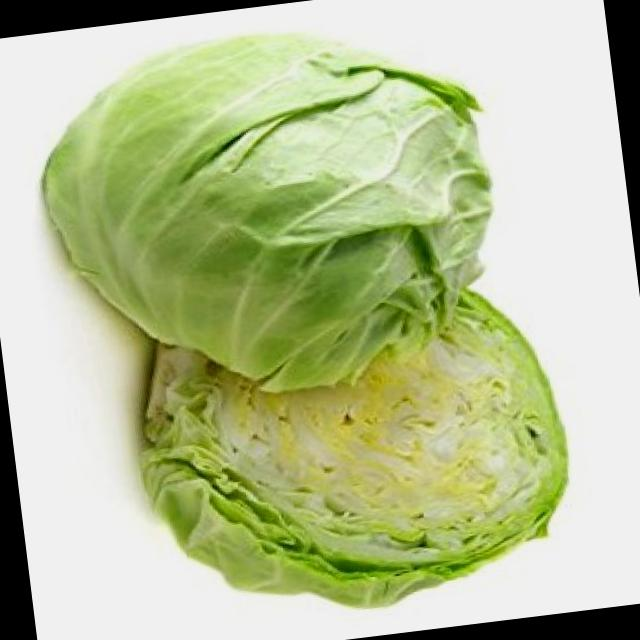cabbage: (6, 11, 517, 418), (124, 258, 593, 630)
